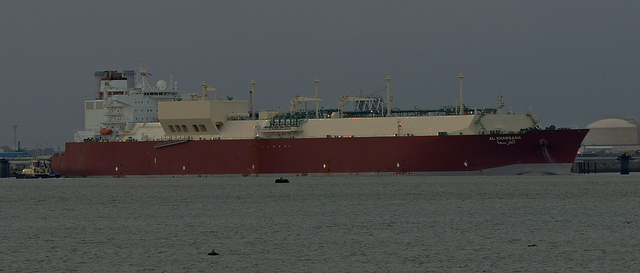LNG_ship: (50, 61, 592, 178)
tug_boat: (12, 149, 56, 176)
